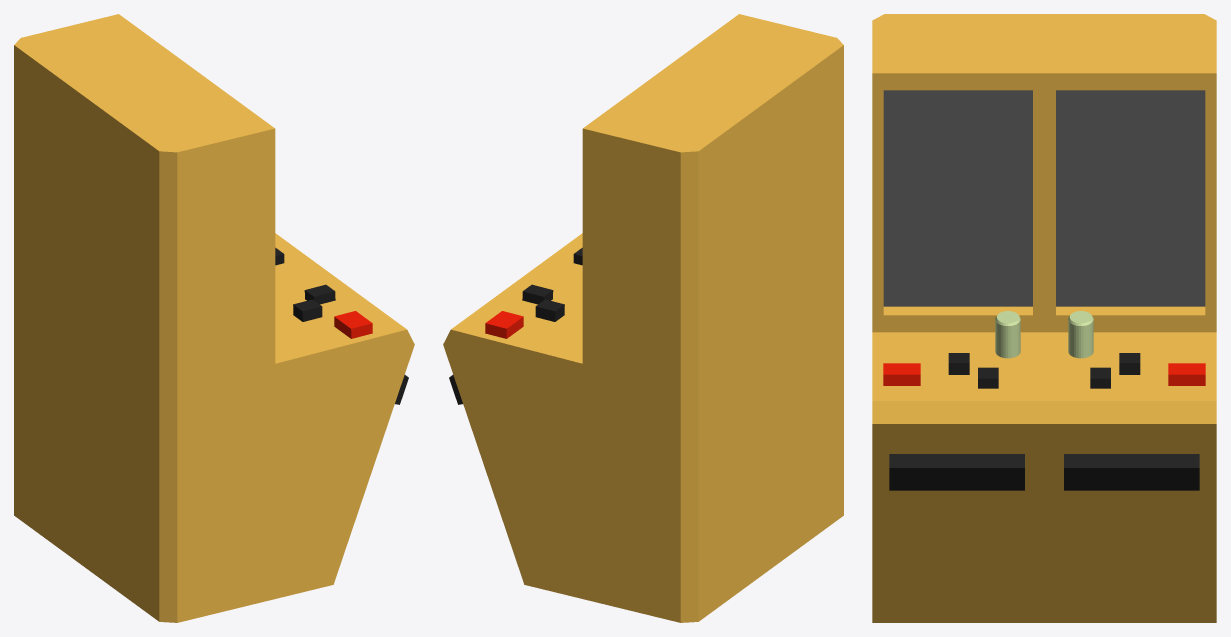
The model's file is CasinoMachine.fbx.
The picture shows the model from 3 angles, left to right: view 1: azimuth 30°, elevation 25°; view 2: azimuth 150°, elevation 25°; view 3: azimuth 270°, elevation 25°; orthographic projection. The views are drawn at different scales.
Visible parts, largest first — view 1: Cube; view 2: Cube; view 3: Cube.
Part boxes in pixels (x1=…): Cube: x1=14, y1=14, x2=414, y2=622; Cube: x1=443, y1=14, x2=843, y2=622; Cube: x1=872, y1=14, x2=1216, y2=622.
Bounding box in the file's own units: 431 × 770 × 464.
